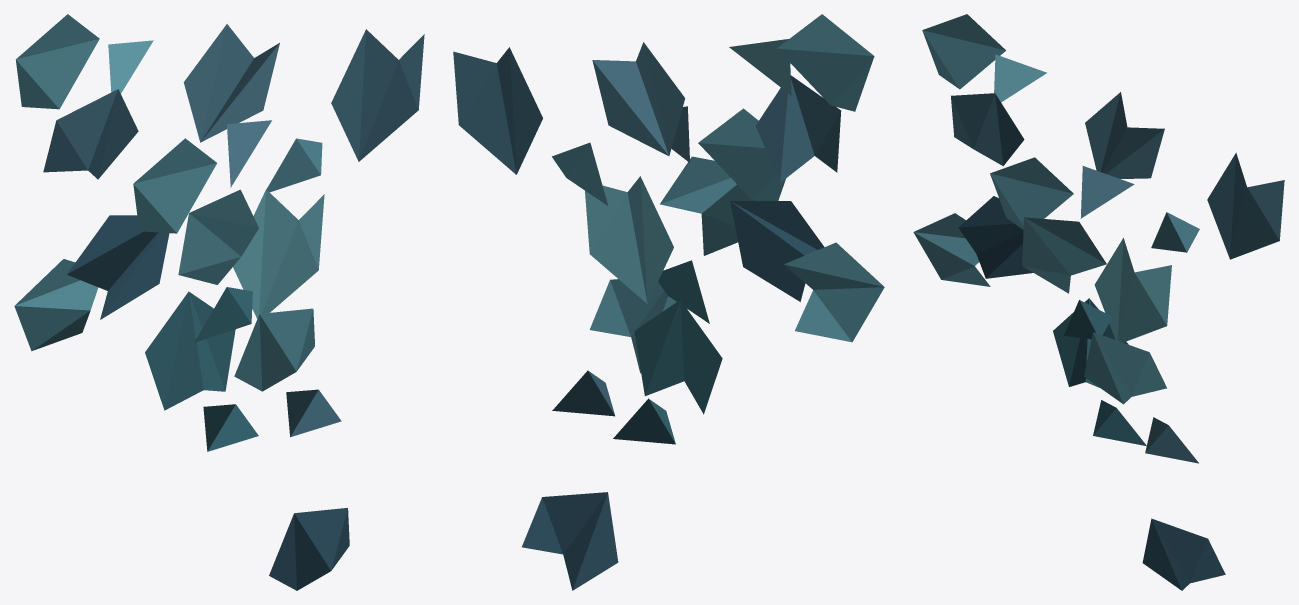
The model's file is SM_Env_Ivy_03.fbx.
3 renders of one model, left to right at view 1: azimuth 30°, elevation 25°; view 2: azimuth 150°, elevation 25°; view 3: azimuth 330°, elevation 25°, orthographic. The views are drawn at different scales.
Parts seen in each view (by area): view 1: SM_Env_Ivy_03; view 2: SM_Env_Ivy_03; view 3: SM_Env_Ivy_03.
Part boxes in pixels (bbox=[...]): SM_Env_Ivy_03: bbox=[14, 14, 424, 590]; SM_Env_Ivy_03: bbox=[453, 14, 884, 590]; SM_Env_Ivy_03: bbox=[913, 14, 1284, 590].
Size of the model in its own units: 1.44 by 2.08 by 0.2403.
1 material, 1 textured.
